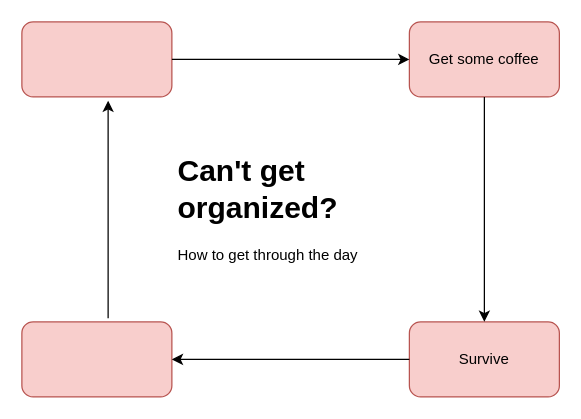
Image size: 581x419. Some labels were removed from this diagram. Each missing label, with the centre of its shape:
"Go to bed" goes at pixel 96 359.
"Wake up" goes at pixel 96 59.
